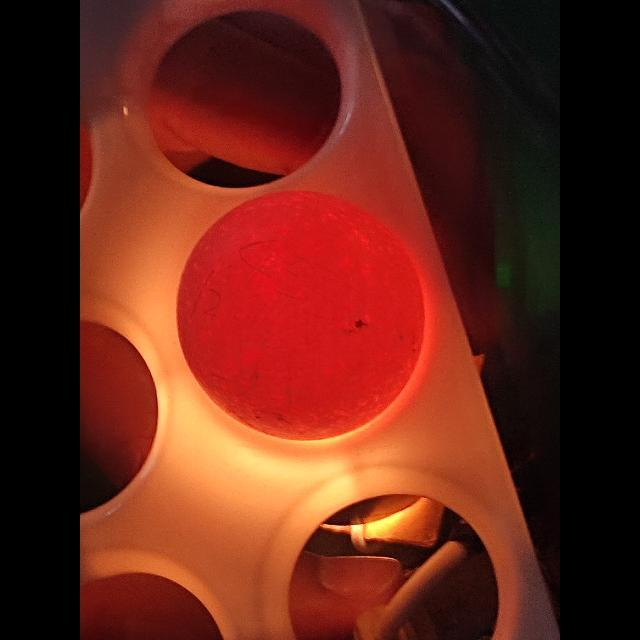Infertile: (182, 188, 432, 440)
